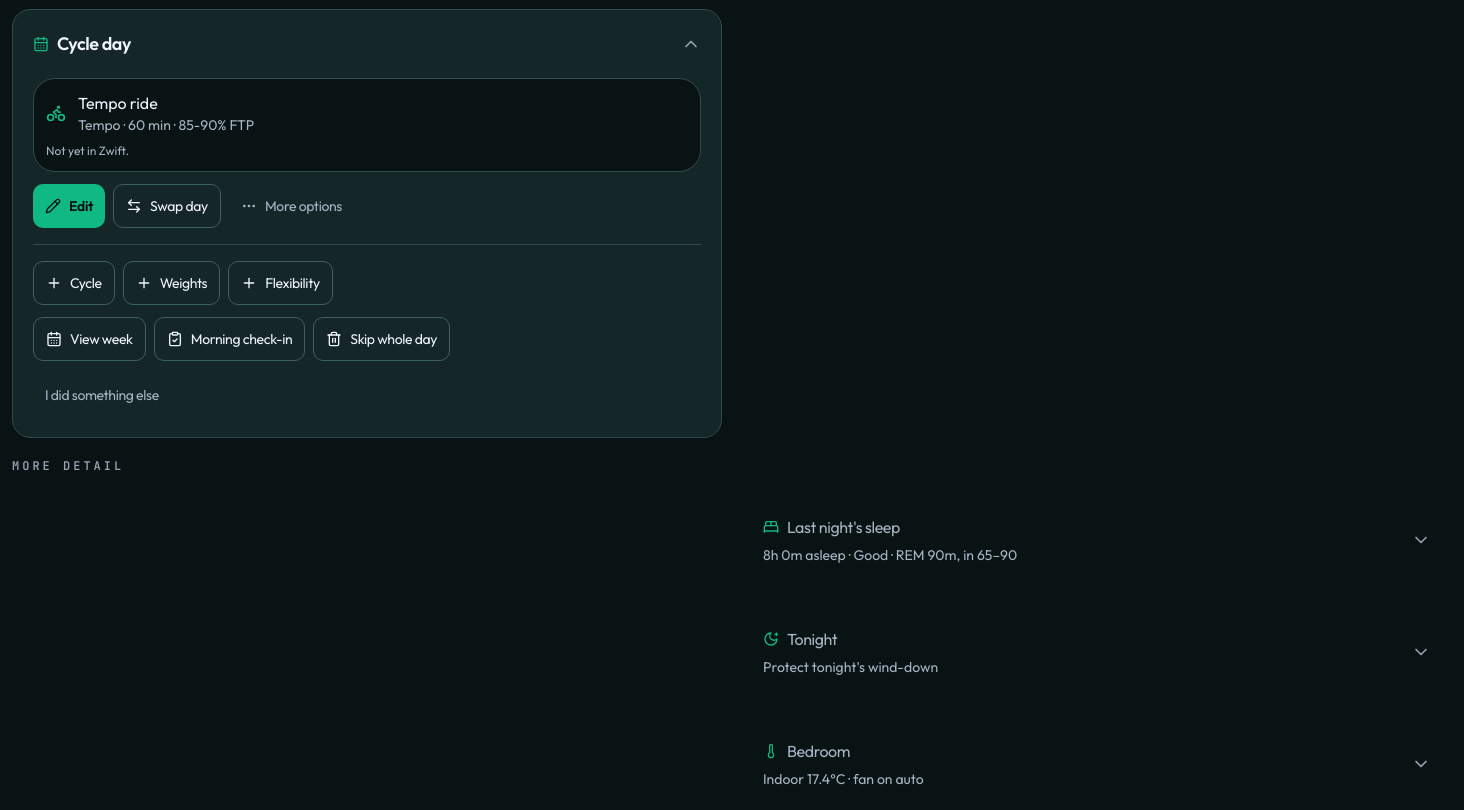
Test case: DashboardPage › renders the personalized sleep projection in Tonight
This screenshot has width=1464, height=810.
(page scrolled)
Check: the text "Cycle day" is shown, box 33,32 -> 131,55
Click the button "Tonight Protect tonight's wind-down".
click(812, 639)  # box 743,607 -> 1451,697
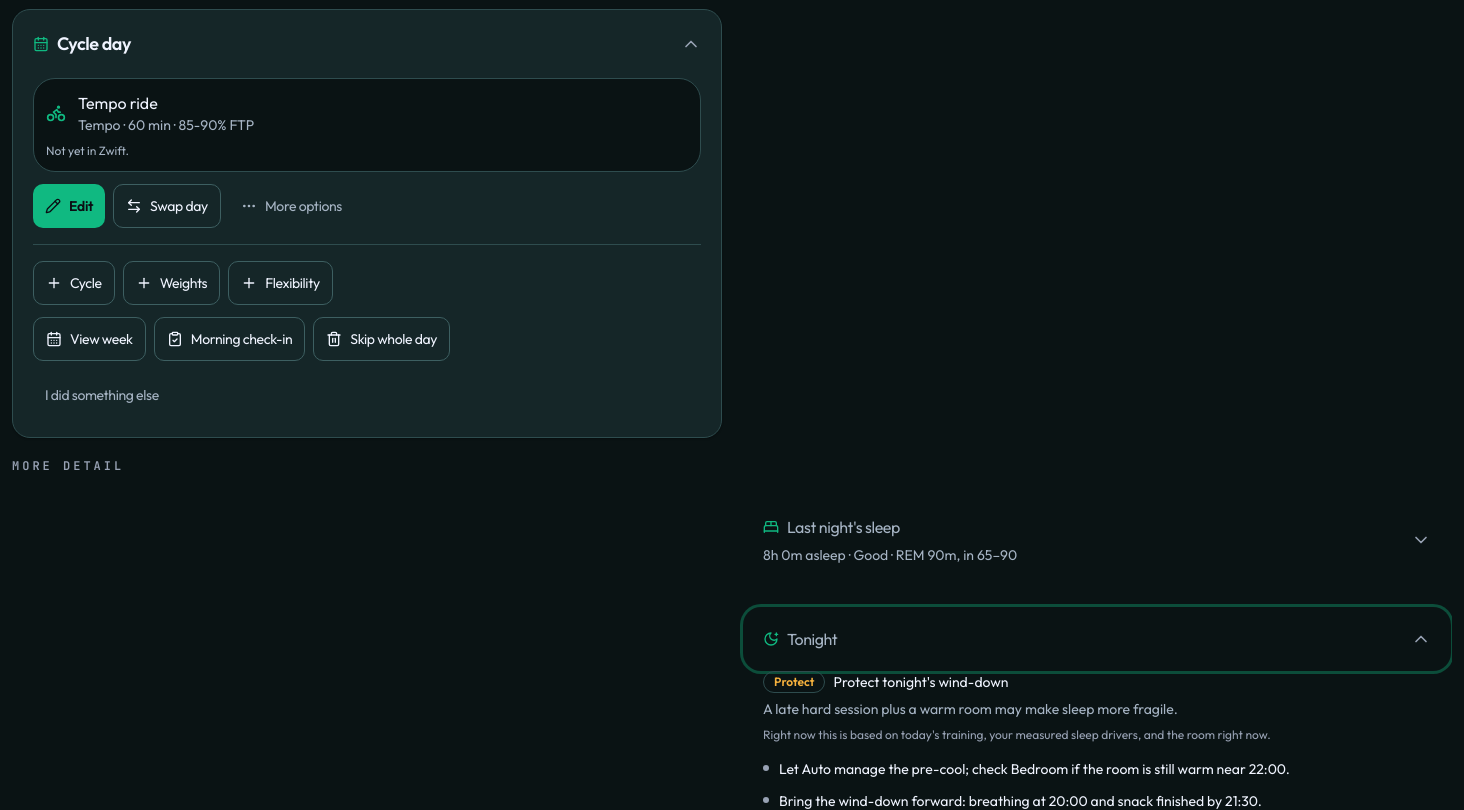
Check: the text "late hard session" is shown, box 763,700 -> 1178,718
Check: the text "Right now this is based on today's training, your measured sleep drivers, and the room right now." is shown, box 763,727 -> 1271,742
Check: the text "Let Auto manage" is shown, box 779,760 -> 1290,778
